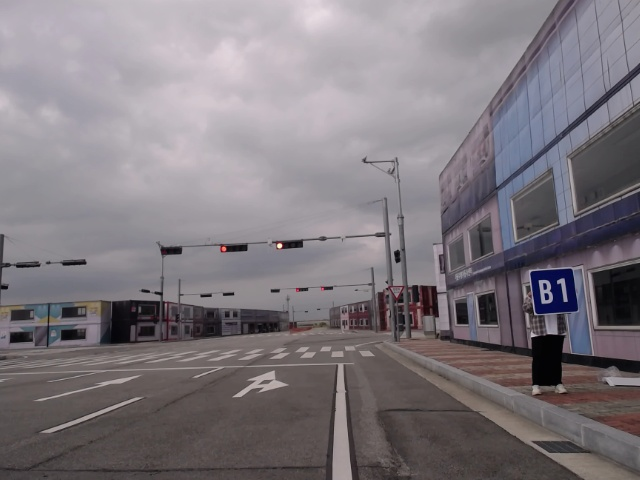delivery_b1: (530, 268, 579, 315)
red_4: (220, 244, 248, 253), (276, 240, 303, 249), (321, 286, 333, 291), (296, 288, 308, 291)
